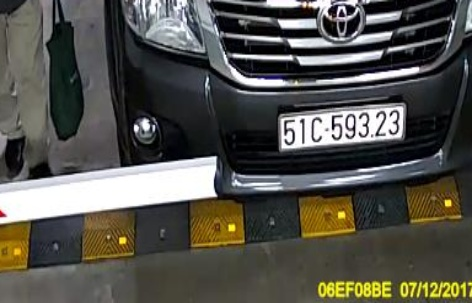plate: (260, 102, 419, 153)
